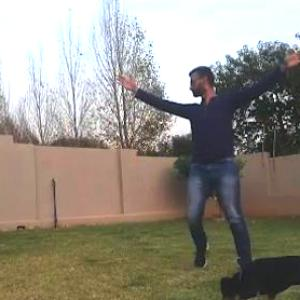takeoff: (109, 49, 299, 274)
